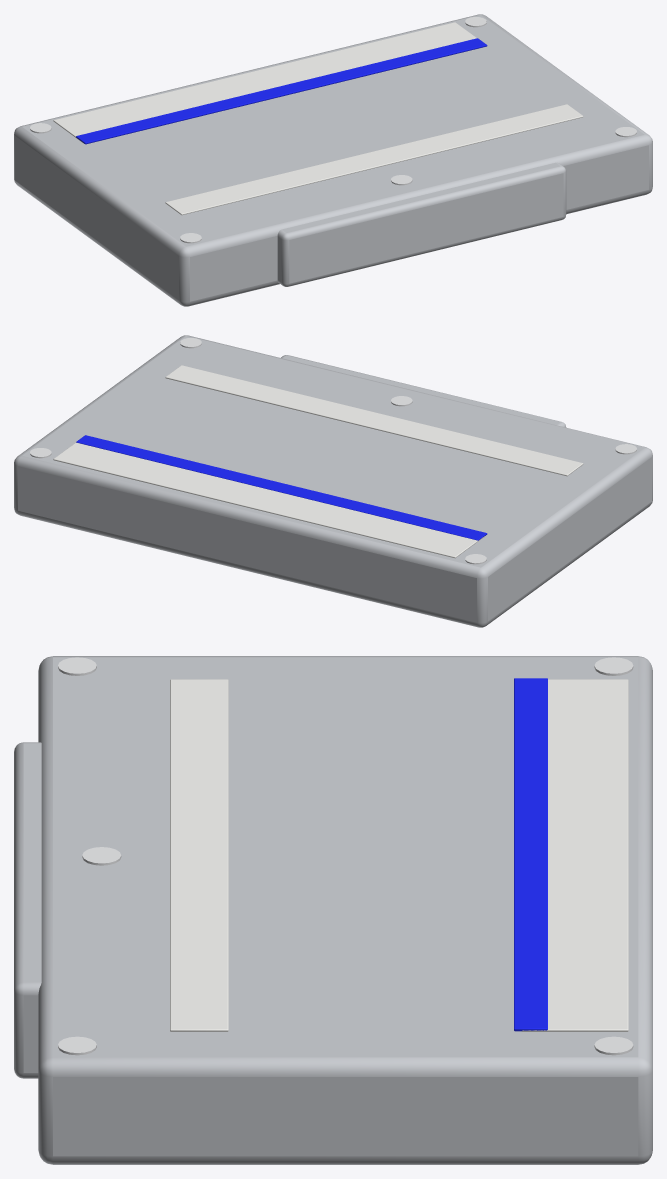
File: cassette.glb
3 views of the same model, one above another, from view 1: azimuth 30°, elevation 25°; view 2: azimuth 150°, elevation 25°; view 3: azimuth 270°, elevation 25° (orthographic). The views are drawn at different scales.
Parts seen in each view (by area): view 1: cassette_shell, cassette_head, cassette_label, cassette_label_low, cassette_label_band; view 2: cassette_shell, cassette_label, cassette_label_low, cassette_label_band, cassette_head; view 3: cassette_shell, cassette_label, cassette_label_low, cassette_label_band, cassette_head.
Part boxes in pixels (left/top/right/bottom): cassette_shell: left=14, top=14, right=652, bottom=306; cassette_head: left=277, top=162, right=566, bottom=286; cassette_label: left=53, top=22, right=476, bottom=143; cassette_label_low: left=165, top=104, right=583, bottom=215; cassette_label_band: left=76, top=38, right=487, bottom=144; cassette_shell: left=14, top=335, right=652, bottom=627; cassette_label: left=53, top=442, right=484, bottom=558; cassette_label_low: left=165, top=365, right=583, bottom=476; cassette_label_band: left=76, top=435, right=487, bottom=540; cassette_head: left=281, top=355, right=566, bottom=427; cassette_shell: left=38, top=656, right=652, bottom=1164; cassette_label: left=521, top=679, right=628, bottom=1031; cassette_label_low: left=170, top=679, right=228, bottom=1031; cassette_label_band: left=514, top=678, right=547, bottom=1031; cassette_head: left=14, top=742, right=41, bottom=1078.
Bounding box in the file's own units: 2 × 0.2545 × 1.31.
